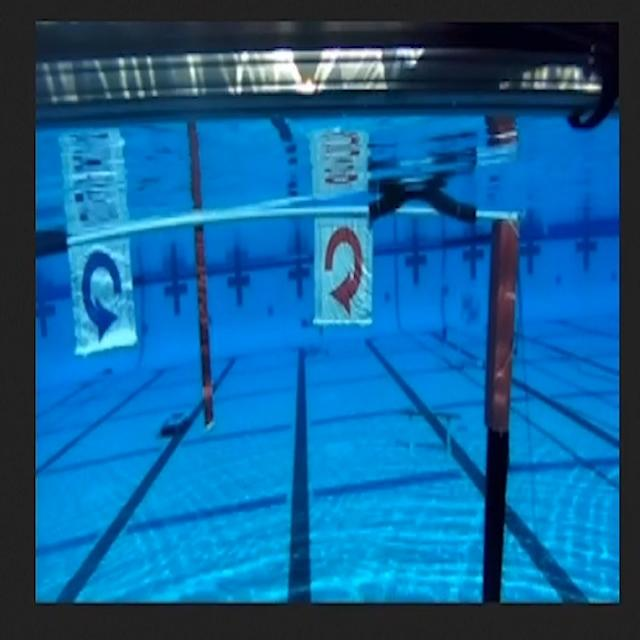Gate: (33, 200, 524, 605)
